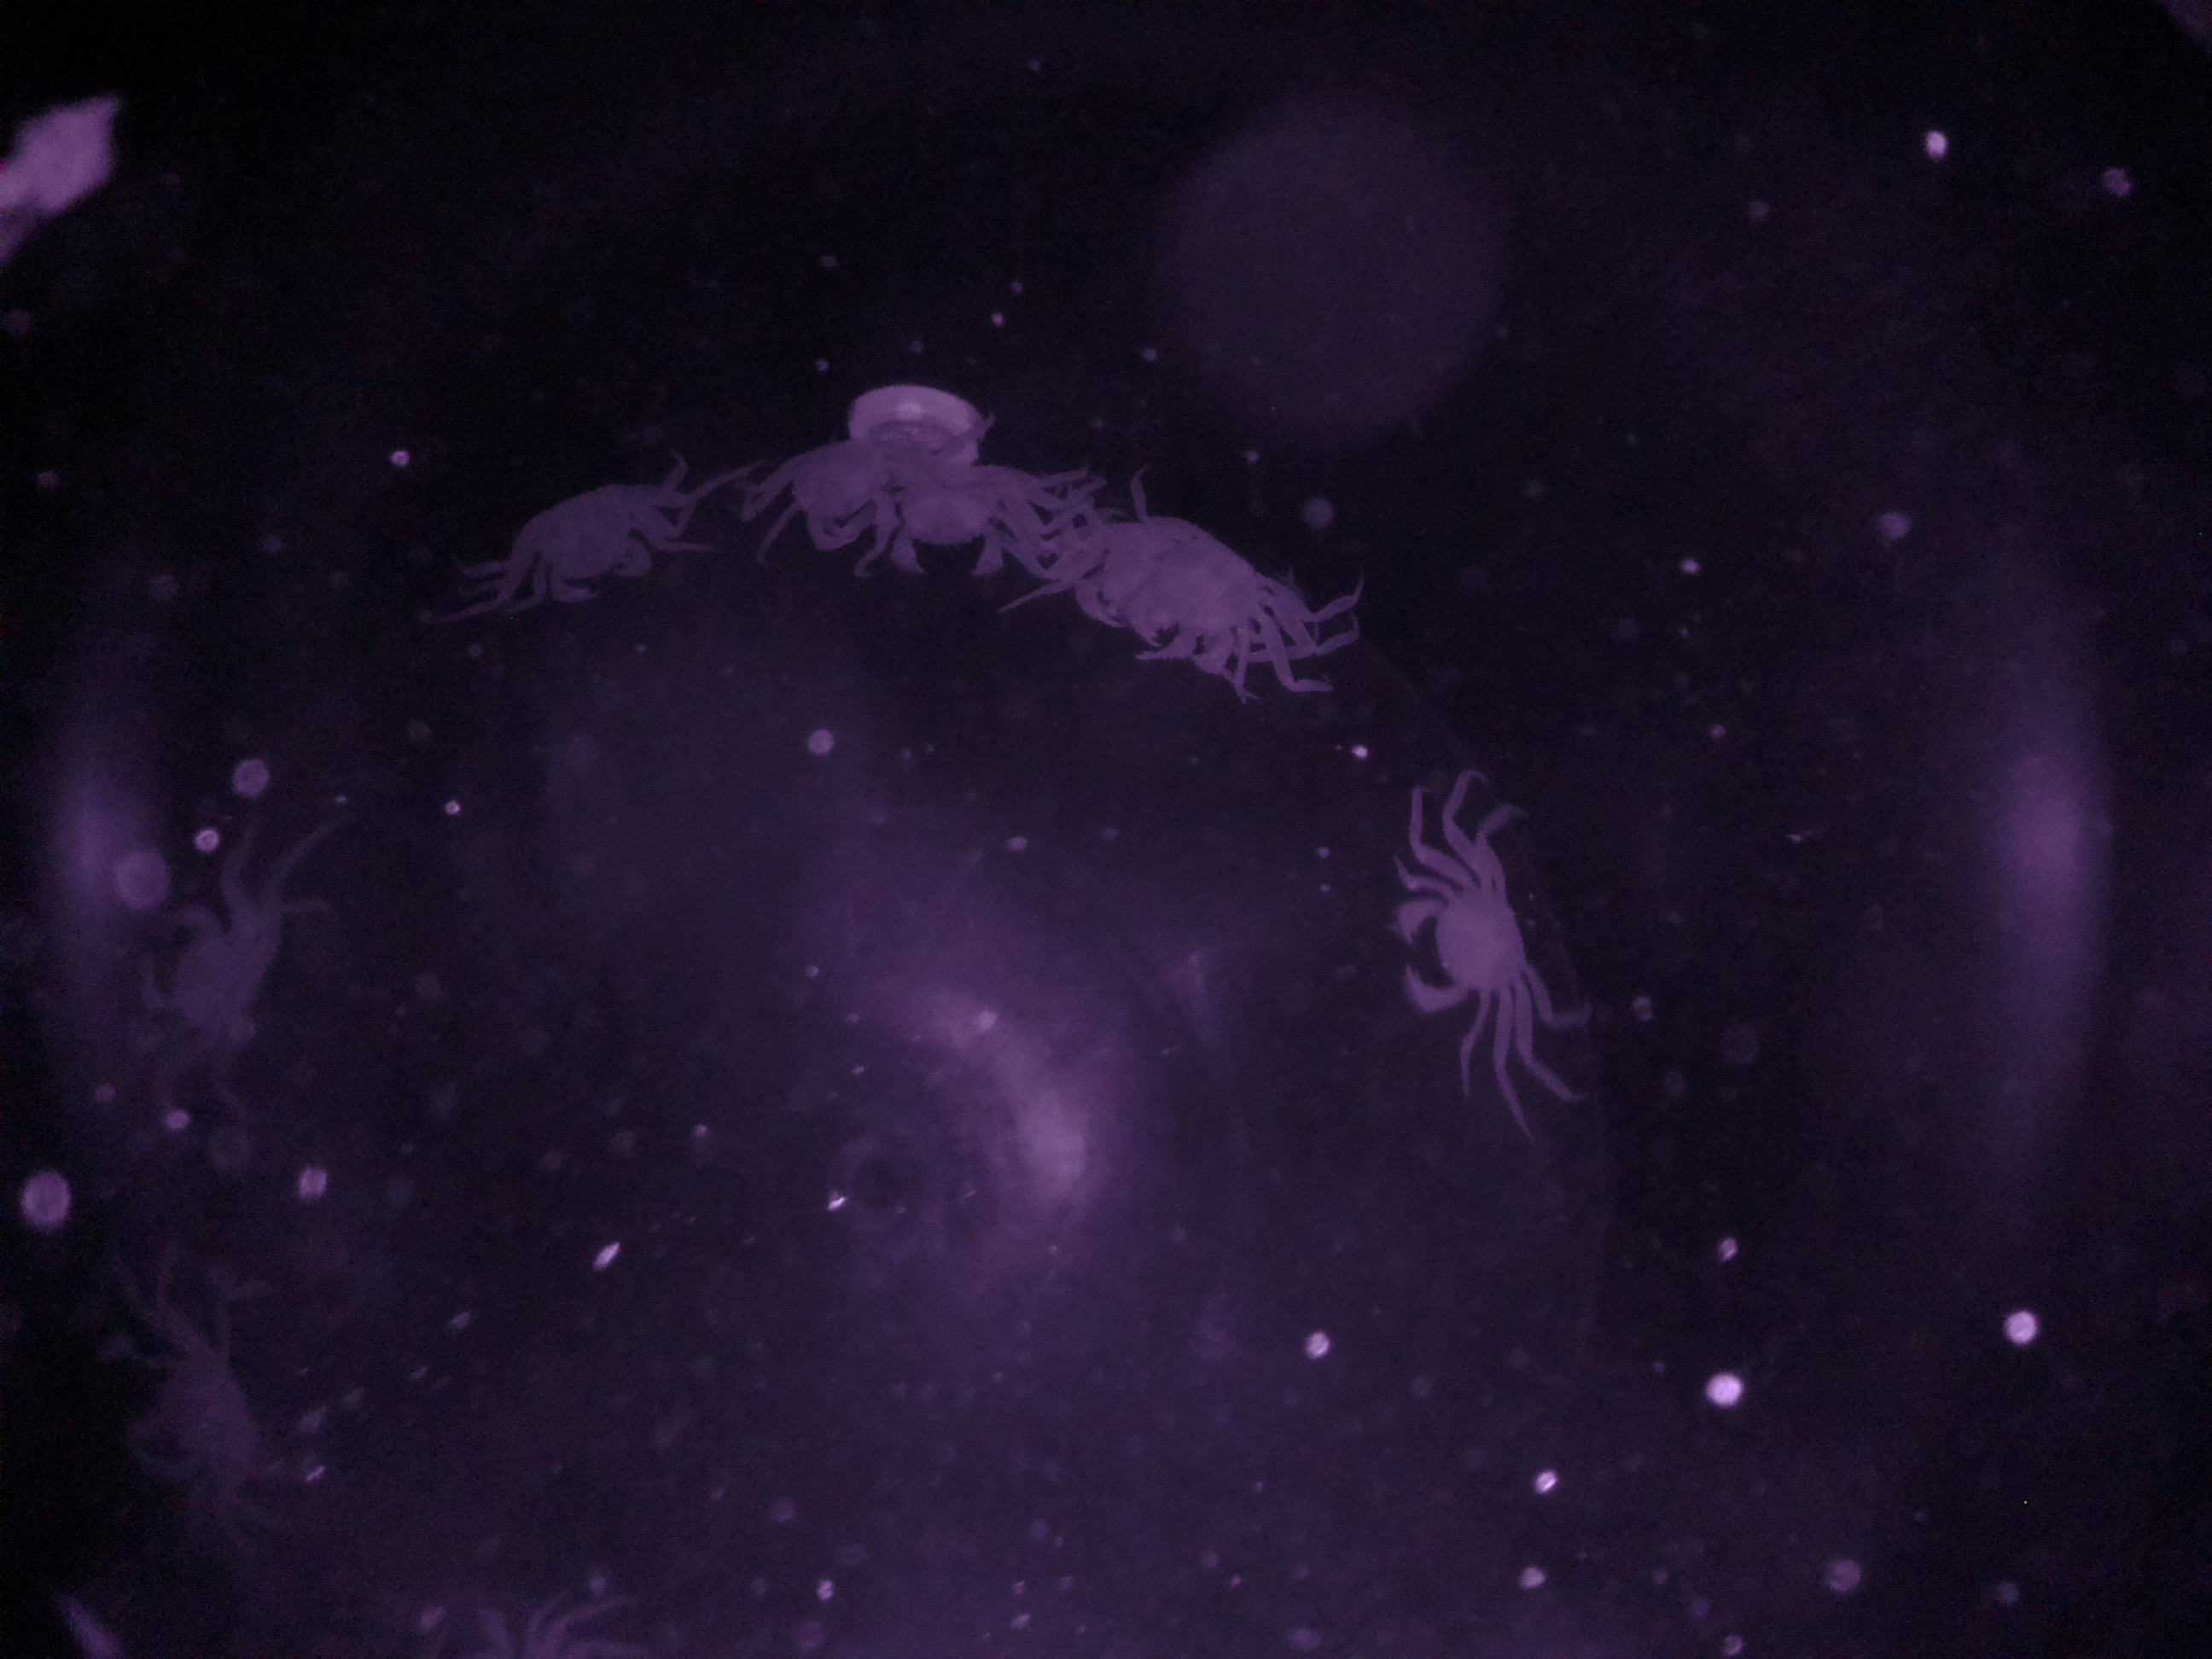Crab: (1376, 838, 1554, 1068), (512, 465, 691, 619)
